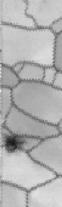good_void: (1, 130, 24, 154)
